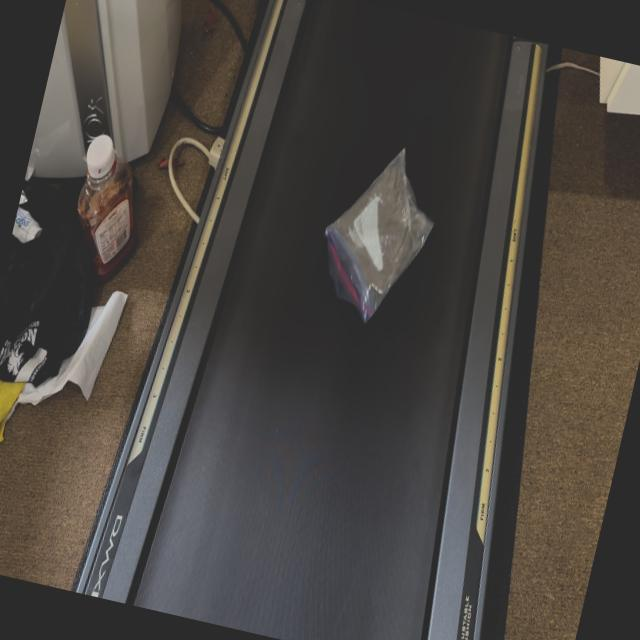Trash: (305, 133, 450, 332)
